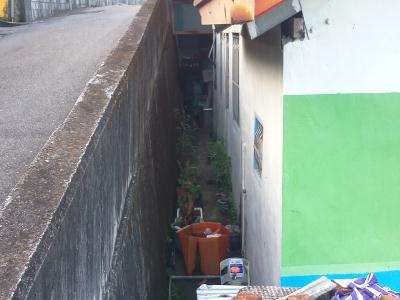bucket: (172, 219, 233, 277)
